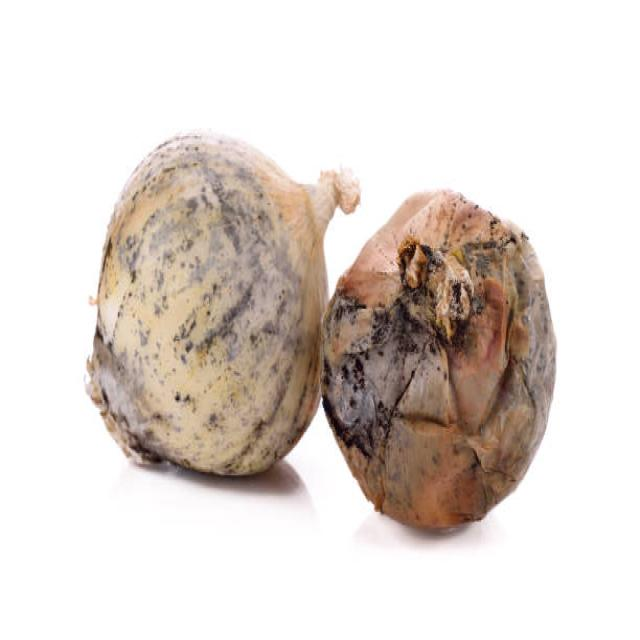rotten: (72, 119, 336, 431), (337, 218, 486, 477)
